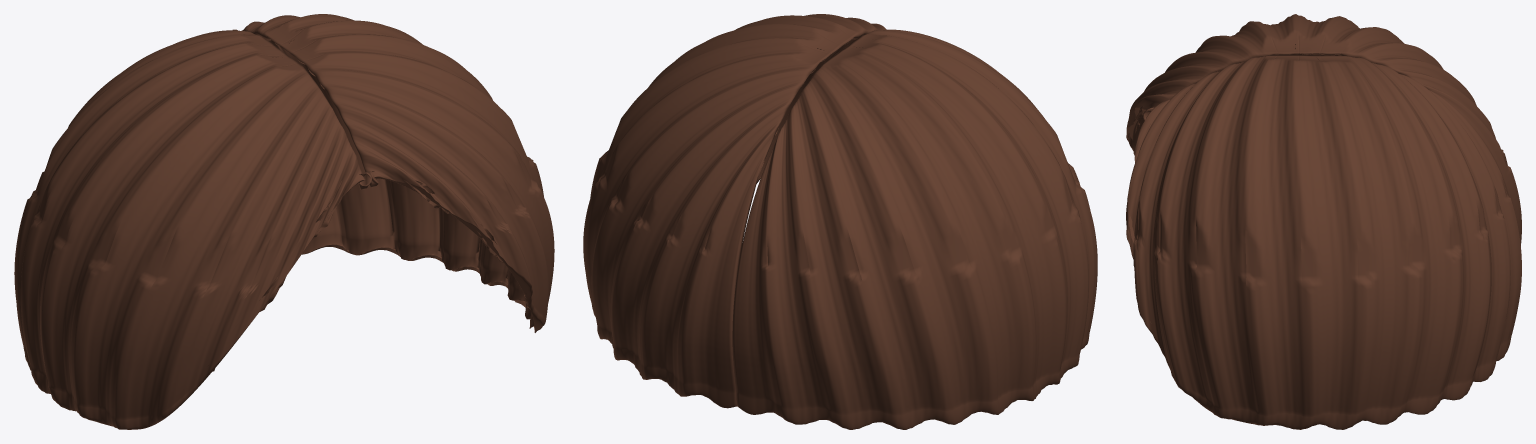
The model's file is Masculine-middle-part-cowboy252-hair.glb.
The picture shows the model from 3 angles, left to right: view 1: azimuth 30°, elevation 25°; view 2: azimuth 150°, elevation 25°; view 3: azimuth 270°, elevation 25°; orthographic projection. The views are drawn at different scales.
Visible parts, largest first — view 1: 226 hair / Hair252 / flowing sculpt middle.001; view 2: 226 hair / Hair252 / flowing sculpt middle.001; view 3: 226 hair / Hair252 / flowing sculpt middle.001.
Part boxes in pixels (box(x1,y1,x2,y2)): 226 hair / Hair252 / flowing sculpt middle.001: box(14, 14, 554, 429); 226 hair / Hair252 / flowing sculpt middle.001: box(583, 14, 1097, 429); 226 hair / Hair252 / flowing sculpt middle.001: box(1126, 14, 1521, 429).
Size of the model in its own units: 1.06 by 0.6585 by 0.8284.
